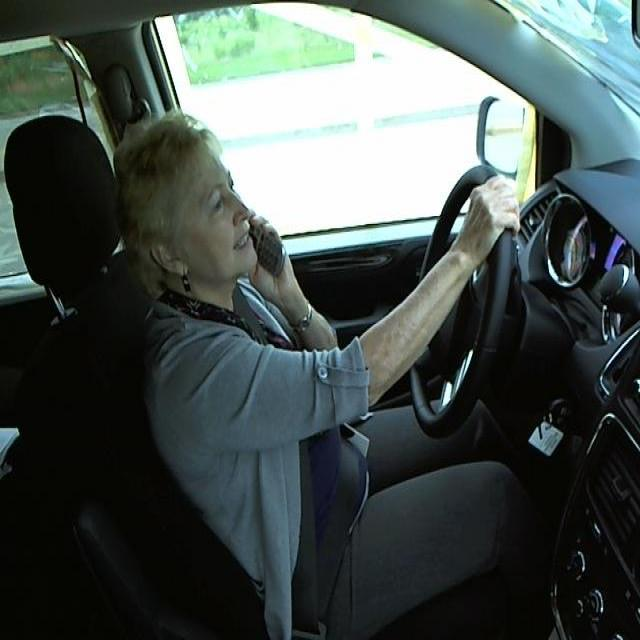using_phone: (103, 100, 310, 332)
